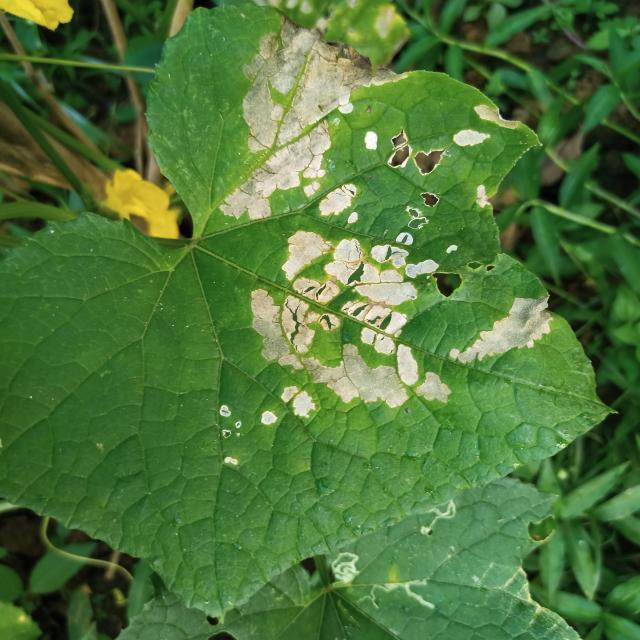disease_cucumber: (245, 220, 560, 429), (217, 18, 518, 225), (205, 396, 249, 472)
